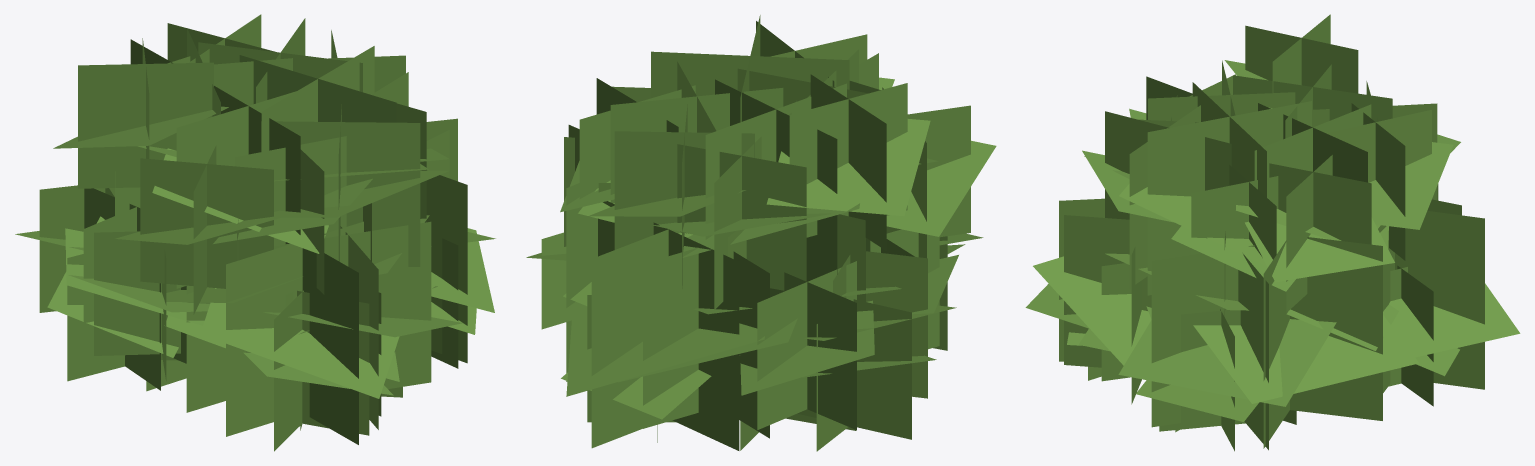
File: pommier_1_f3_loin.glb
The picture shows the model from 3 angles, left to right: view 1: azimuth 30°, elevation 25°; view 2: azimuth 150°, elevation 25°; view 3: azimuth 270°, elevation 25°; orthographic projection. The views are drawn at different scales.
Parts seen in each view (by area): view 1: Pommier_T1_f3_Leger_Loin; view 2: Pommier_T1_f3_Leger_Loin; view 3: Pommier_T1_f3_Leger_Loin.
Part boxes in pixels (box(x1,y1,x2,y2)): Pommier_T1_f3_Leger_Loin: box(15, 14, 495, 451); Pommier_T1_f3_Leger_Loin: box(526, 15, 996, 451); Pommier_T1_f3_Leger_Loin: box(1025, 14, 1520, 451).
Size of the model in its own units: 5.79 by 4.45 by 6.4.
